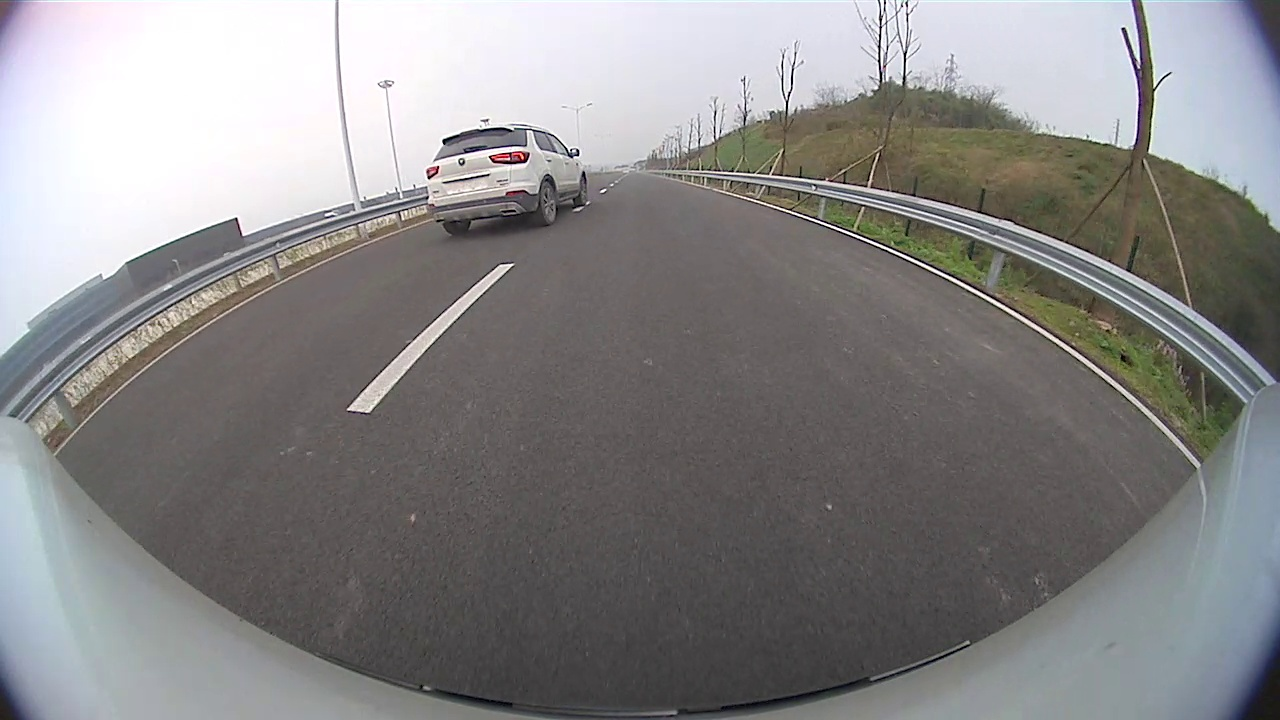car: (421, 123, 588, 240)
rear: (538, 181, 559, 227)
